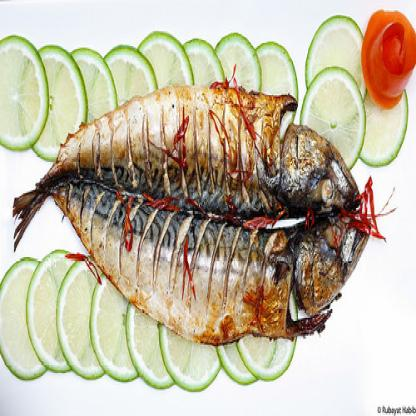Peixe: (0, 72, 385, 341)
